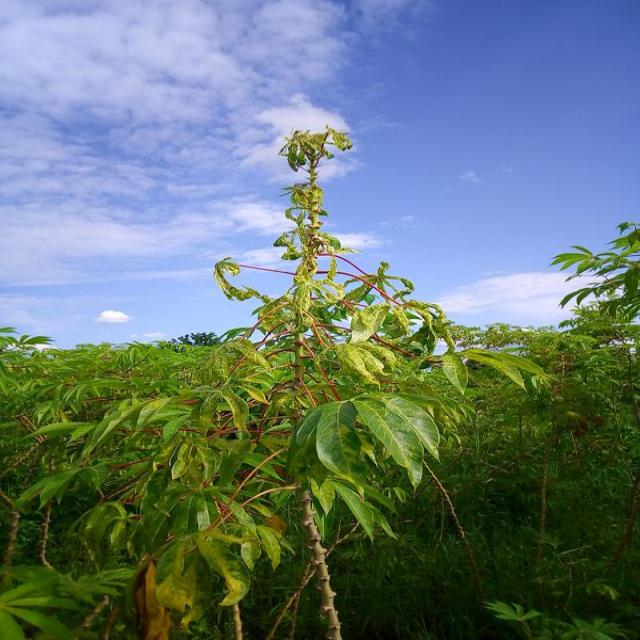cassava leaf: (2, 124, 555, 637), (290, 390, 442, 542)
